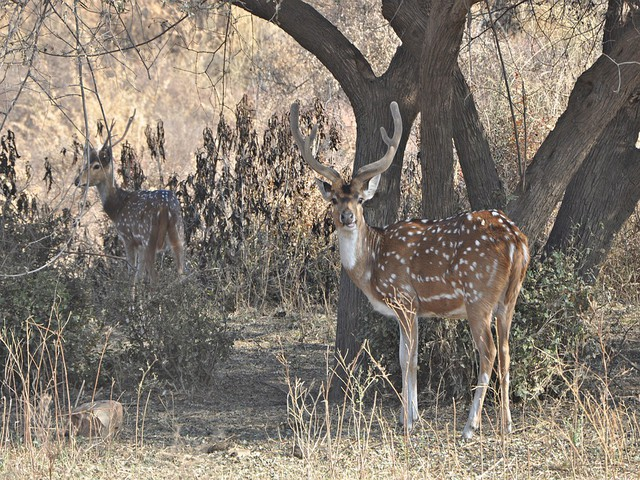deer: (286, 100, 533, 442)
